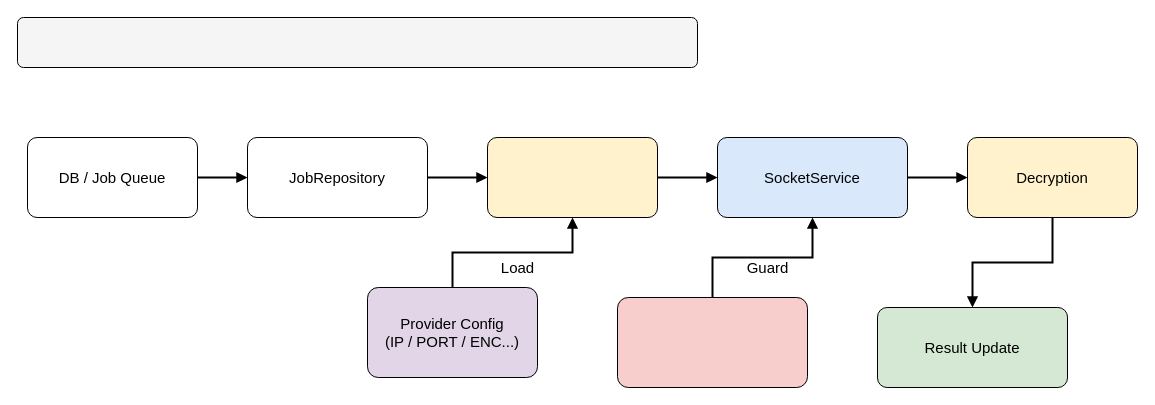
This 1155x405 diagram has some shape labels left out. The shapes that lost their labels are listed below. From the top down, each one's centre as x and y in pixels, then its label:
point 357,42: java-socket-daemon-springboot [Polling → Encrypt → Socket → Decrypt → Update]
point 572,177: Encryption
point 712,342: Retry / Timeout
